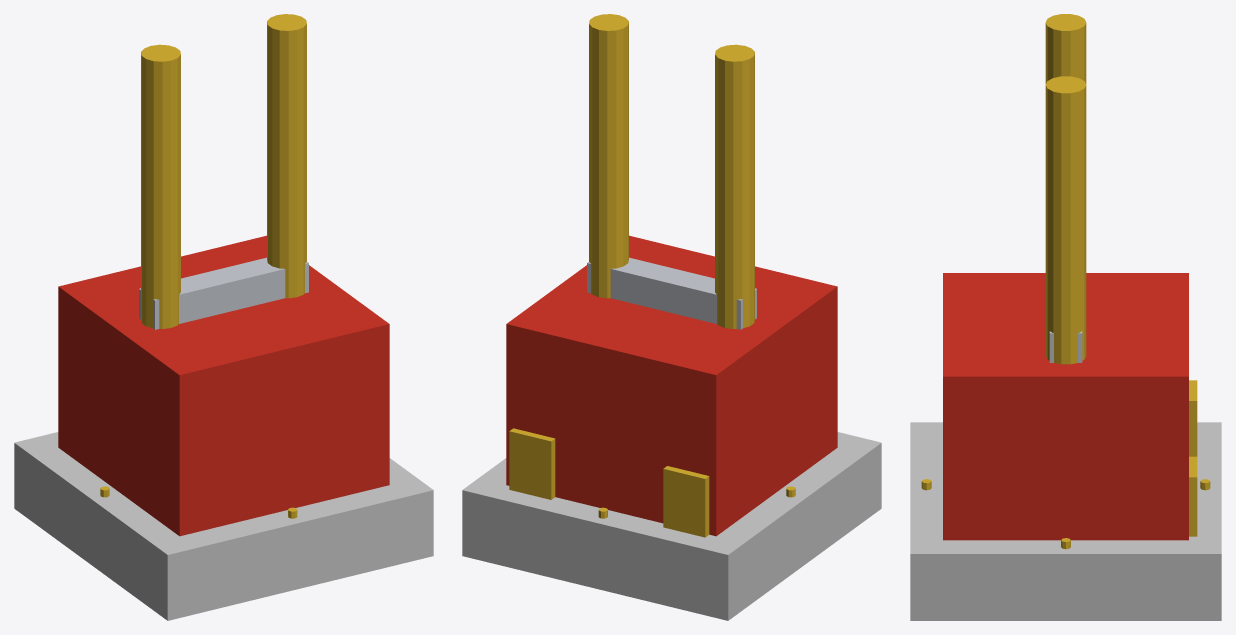
Rendered from air_raid_siren.obj.
3 views of the same model, side by side, from view 1: azimuth 30°, elevation 25°; view 2: azimuth 150°, elevation 25°; view 3: azimuth 270°, elevation 25° (orthographic).
Visible parts, largest first — view 1: air_raid_siren; view 2: air_raid_siren; view 3: air_raid_siren.
Boxes of the visible parts, <box> form: air_raid_siren: <box>14,14,433,620</box>; air_raid_siren: <box>462,14,881,620</box>; air_raid_siren: <box>910,14,1221,620</box>.
Size of the model in its own units: 0.76 by 1.35 by 0.76.
